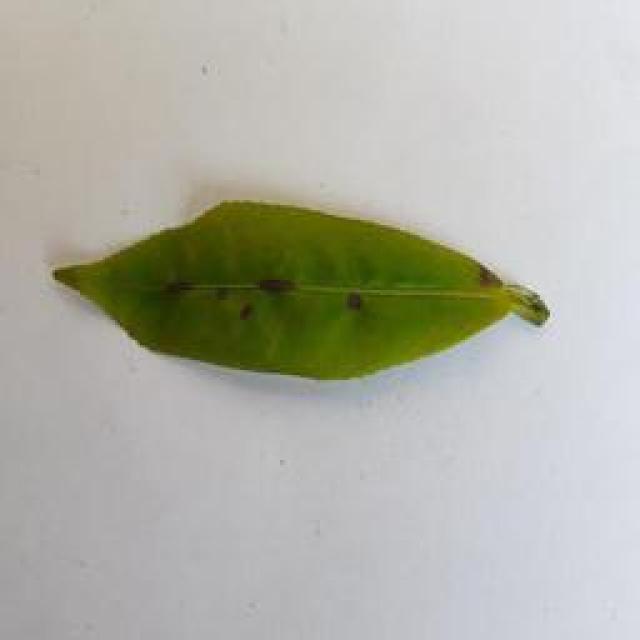Helopeltis: (41, 191, 584, 401)
